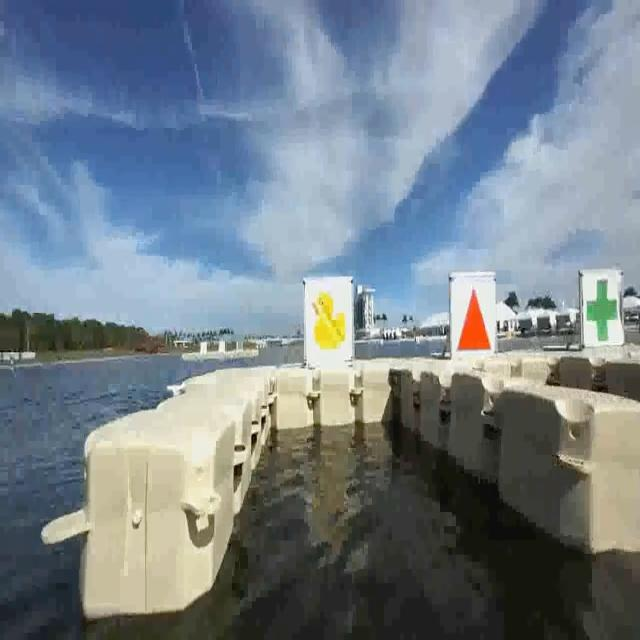blue-cross: (582, 273, 616, 339)
red-dot: (448, 270, 494, 354)
yellow-duck: (309, 278, 353, 364)
